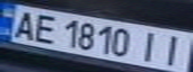0: (112, 25, 136, 58)
1: (57, 17, 81, 50), (93, 24, 115, 55)
8: (75, 20, 96, 52)
A: (6, 8, 42, 41)
E: (27, 12, 60, 44)
I: (157, 33, 190, 67), (136, 29, 166, 64)
